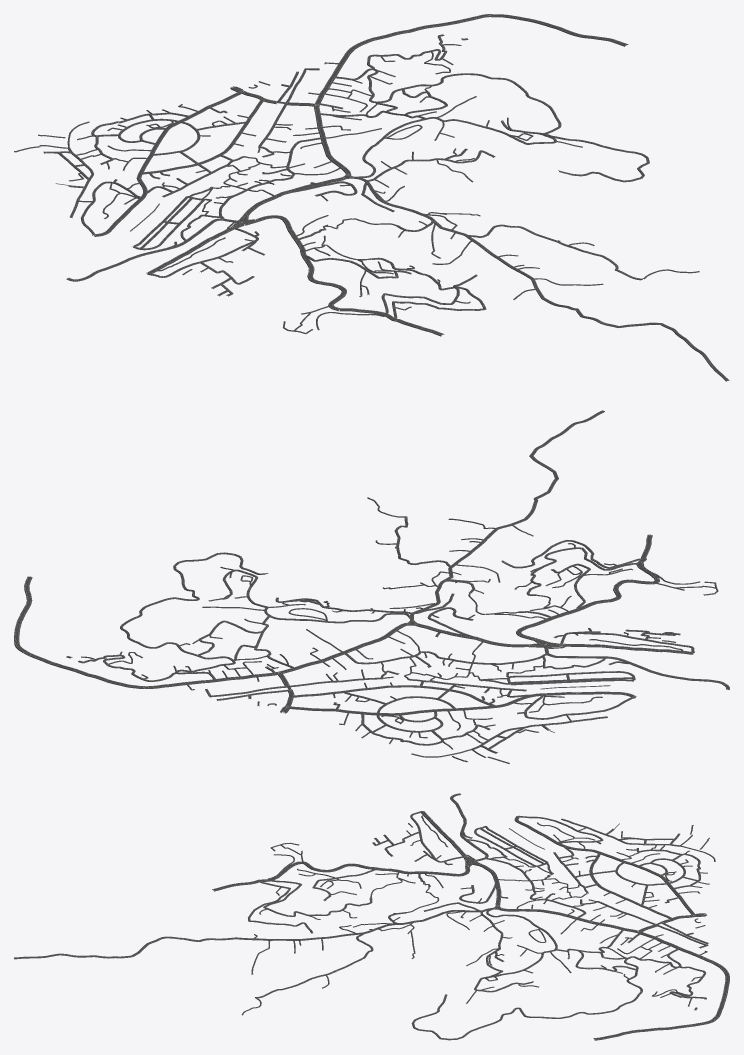
Rendered from osm_real_roads_T_E01_N00.glb.
3 renders of one model, top to bottom at view 1: azimuth 30°, elevation 25°; view 2: azimuth 150°, elevation 25°; view 3: azimuth 270°, elevation 25°, orthographic. The views are drawn at different scales.
Parts seen in each view (by area): view 1: OSM_Roads_T_E01_N00_taluy_embankment, OSM_Roads_T_E01_N00_asphalt_local, OSM_Roads_T_E01_N00_sidewalk_paver, OSM_Roads_T_E01_N00_asphalt_primary, OSM_Roads_T_E01_N00_granite_curb; view 2: OSM_Roads_T_E01_N00_taluy_embankment, OSM_Roads_T_E01_N00_asphalt_local, OSM_Roads_T_E01_N00_sidewalk_paver, OSM_Roads_T_E01_N00_asphalt_primary, OSM_Roads_T_E01_N00_granite_curb; view 3: OSM_Roads_T_E01_N00_taluy_embankment, OSM_Roads_T_E01_N00_asphalt_local, OSM_Roads_T_E01_N00_sidewalk_paver, OSM_Roads_T_E01_N00_asphalt_primary, OSM_Roads_T_E01_N00_granite_curb.
Part boxes in pixels (x1,y1,x2,y2): OSM_Roads_T_E01_N00_taluy_embankment: (14, 16, 726, 381); OSM_Roads_T_E01_N00_asphalt_local: (14, 34, 728, 380); OSM_Roads_T_E01_N00_sidewalk_paver: (43, 14, 729, 380); OSM_Roads_T_E01_N00_asphalt_primary: (94, 14, 627, 335); OSM_Roads_T_E01_N00_granite_curb: (45, 14, 722, 374); OSM_Roads_T_E01_N00_taluy_embankment: (14, 411, 729, 763); OSM_Roads_T_E01_N00_asphalt_local: (67, 410, 729, 763); OSM_Roads_T_E01_N00_sidewalk_paver: (14, 411, 729, 752); OSM_Roads_T_E01_N00_asphalt_primary: (15, 534, 693, 714); OSM_Roads_T_E01_N00_granite_curb: (15, 412, 728, 748); OSM_Roads_T_E01_N00_taluy_embankment: (14, 794, 729, 1040); OSM_Roads_T_E01_N00_asphalt_local: (14, 793, 715, 1039); OSM_Roads_T_E01_N00_sidewalk_paver: (14, 793, 729, 1039); OSM_Roads_T_E01_N00_asphalt_primary: (212, 811, 728, 1039); OSM_Roads_T_E01_N00_granite_curb: (17, 801, 729, 1039).
Bounding box in the file's own units: 2732 × 176 × 3147.
8 materials, 6 textured.
